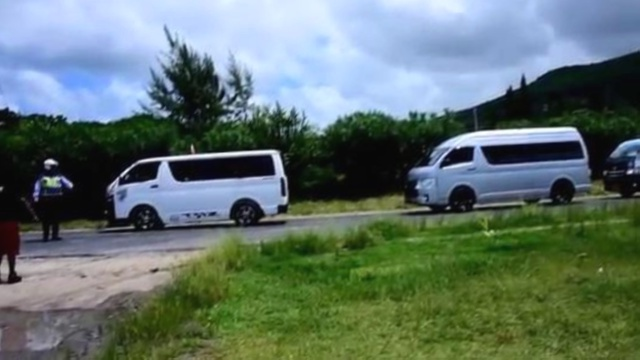van: (402, 121, 592, 218), (101, 148, 292, 242)
